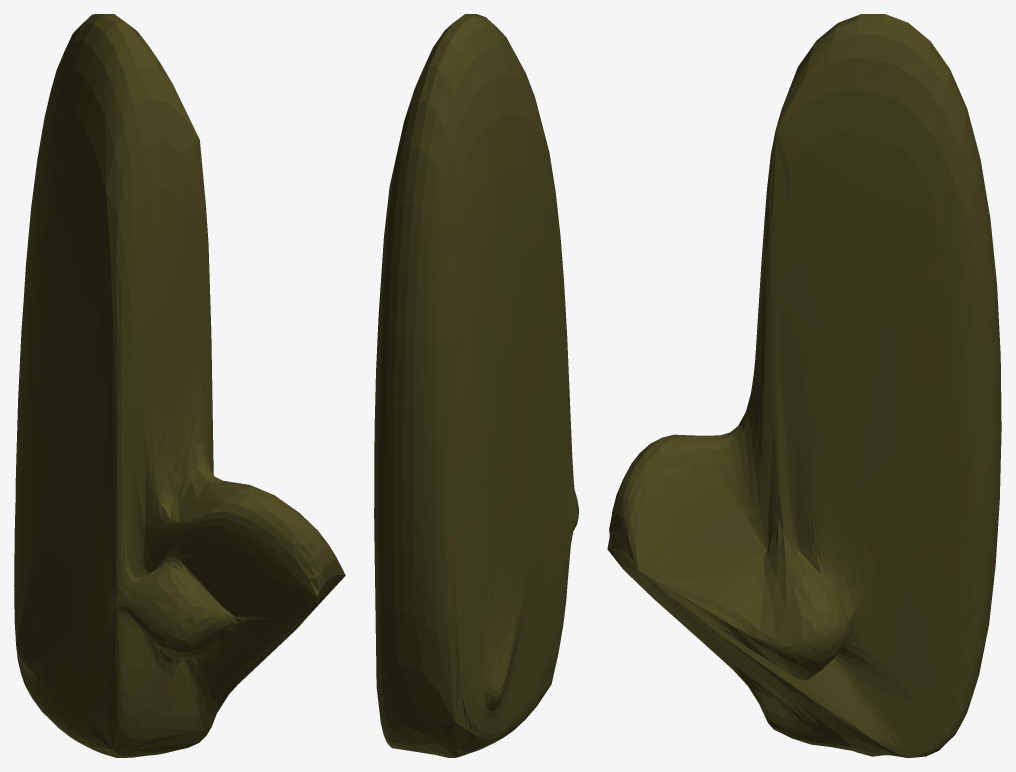
3 views of the same model, side by side, from view 1: azimuth 30°, elevation 25°; view 2: azimuth 150°, elevation 25°; view 3: azimuth 270°, elevation 25° (orthographic).
Visible parts, largest first — view 1: 491_Cube.1991; view 2: 491_Cube.1991; view 3: 491_Cube.1991.
Boxes of the visible parts, left/top/right/bottom form: 491_Cube.1991: left=14, top=14, right=345, bottom=757; 491_Cube.1991: left=374, top=14, right=578, bottom=757; 491_Cube.1991: left=607, top=14, right=1001, bottom=757.
Bounding box in the file's own units: 2.97 × 11.44 × 5.59.
